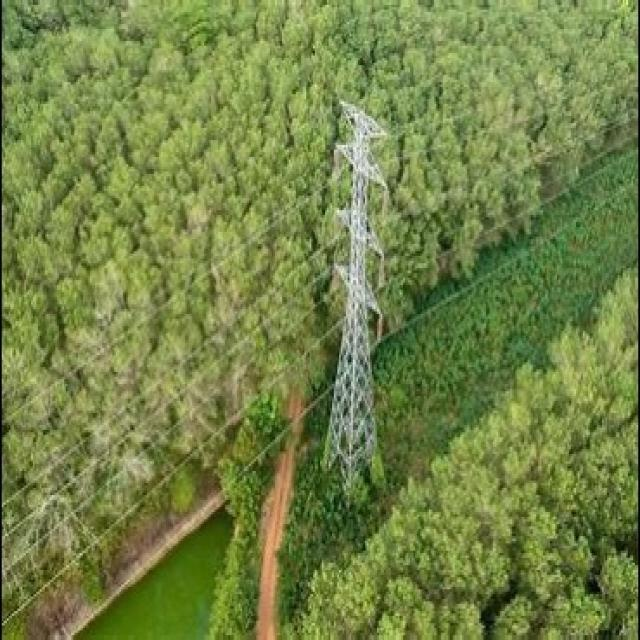utility poles: (310, 71, 402, 502)
